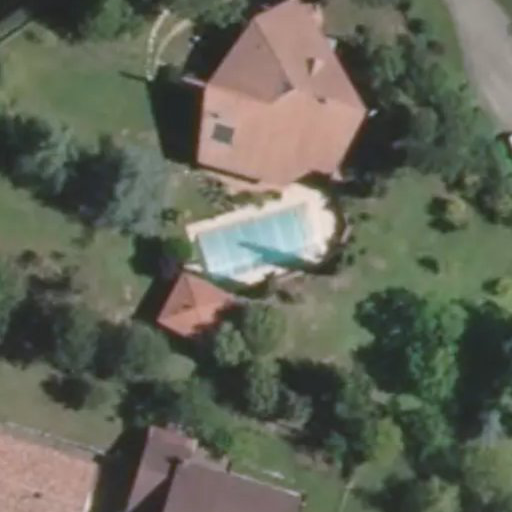pool: (197, 235, 317, 245)
